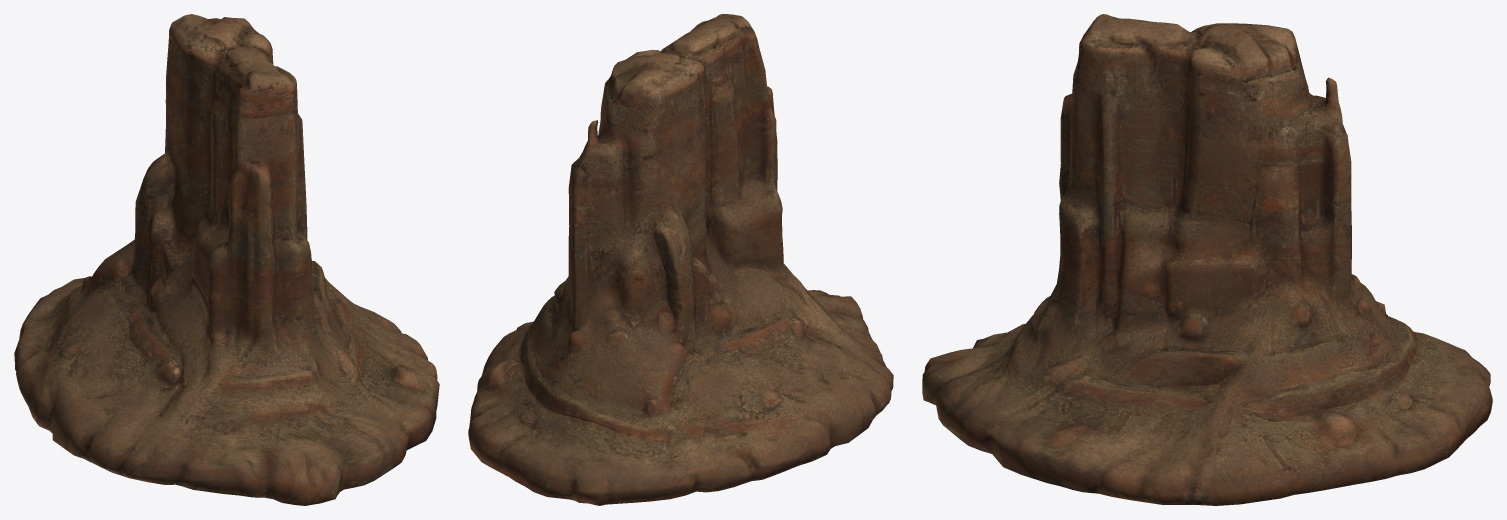
File: desert mesa.fbx
The picture shows the model from 3 angles, left to right: view 1: azimuth 30°, elevation 25°; view 2: azimuth 150°, elevation 25°; view 3: azimuth 270°, elevation 25°; orthographic projection. The views are drawn at different scales.
Visible parts, largest first — view 1: node_id30; view 2: node_id30; view 3: node_id30.
Part boxes in pixels (x1,y1,x2,y2): node_id30: [14, 14, 439, 505]; node_id30: [468, 14, 893, 505]; node_id30: [922, 14, 1492, 505].
Bounding box in the file's own units: 0.512 × 0.5026 × 0.6609.
1 material, 1 textured.
